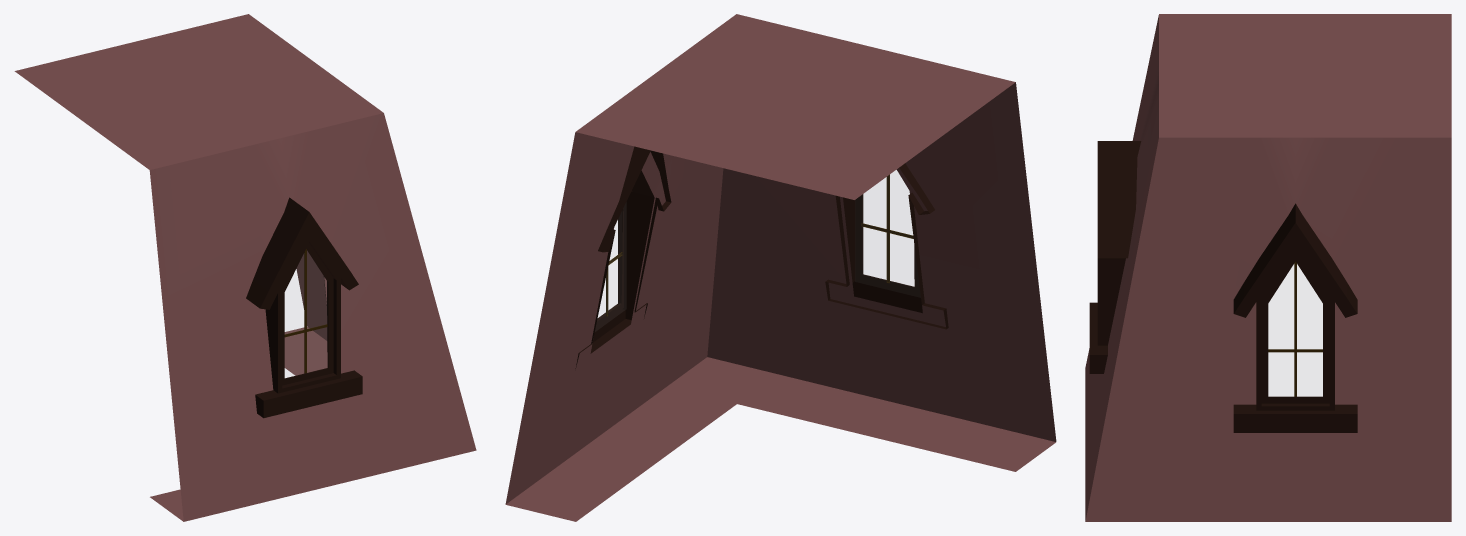
Rendered from Tejado_Esquina_01.fbx.
3 views of the same model, side by side, from view 1: azimuth 30°, elevation 25°; view 2: azimuth 150°, elevation 25°; view 3: azimuth 270°, elevation 25° (orthographic). The views are drawn at different scales.
Visible parts, largest first — view 1: polySurface27, Ventana4; view 2: polySurface27, Ventana2, Ventana4, Barrotes4; view 3: polySurface27, Ventana2, Ventana4, Barrotes2.
Boxes of the visible parts, bbox=[...] form: polySurface27: bbox=[14, 14, 476, 521]; Ventana4: bbox=[246, 197, 362, 418]; polySurface27: bbox=[505, 14, 1056, 521]; Ventana2: bbox=[575, 146, 671, 368]; Ventana4: bbox=[825, 163, 948, 329]; Barrotes4: bbox=[861, 174, 913, 283]; polySurface27: bbox=[1085, 14, 1451, 521]; Ventana2: bbox=[1233, 203, 1357, 432]; Ventana4: bbox=[1089, 141, 1141, 373]; Barrotes2: bbox=[1268, 261, 1322, 396].
Bounding box in the file's own units: 7.5 × 8 × 7.51.
